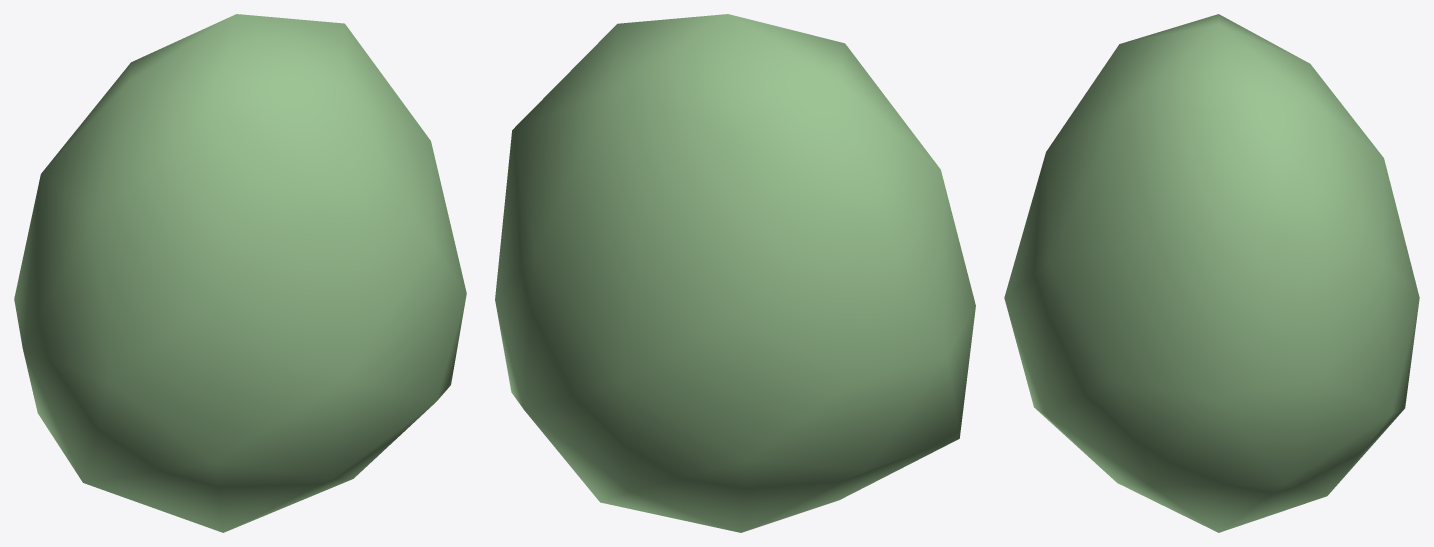
The model's file is tree-broadleaf-d-crown-far.glb.
3 renders of one model, left to right at view 1: azimuth 30°, elevation 25°; view 2: azimuth 150°, elevation 25°; view 3: azimuth 270°, elevation 25°, orthographic. The views are drawn at different scales.
Parts seen in each view (by area): view 1: tree-broadleaf-d-crown-far; view 2: tree-broadleaf-d-crown-far; view 3: tree-broadleaf-d-crown-far.
Boxes of the visible parts, x1,y1,x2,y2 form: tree-broadleaf-d-crown-far: [14, 14, 466, 532]; tree-broadleaf-d-crown-far: [495, 14, 975, 532]; tree-broadleaf-d-crown-far: [1004, 14, 1419, 532].
Size of the model in its own units: 0.6014 by 0.6461 by 0.5228.
